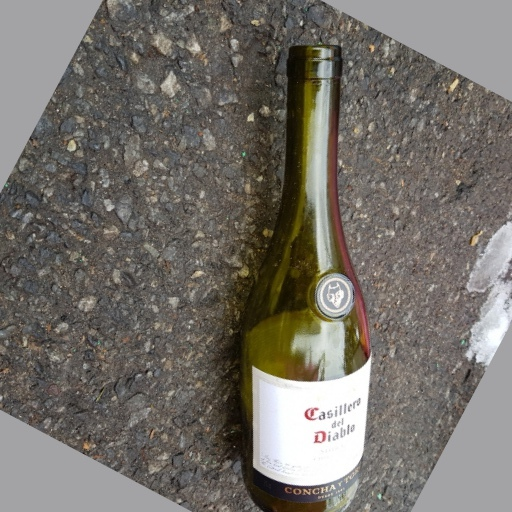Glass_2: (231, 44, 373, 512)
